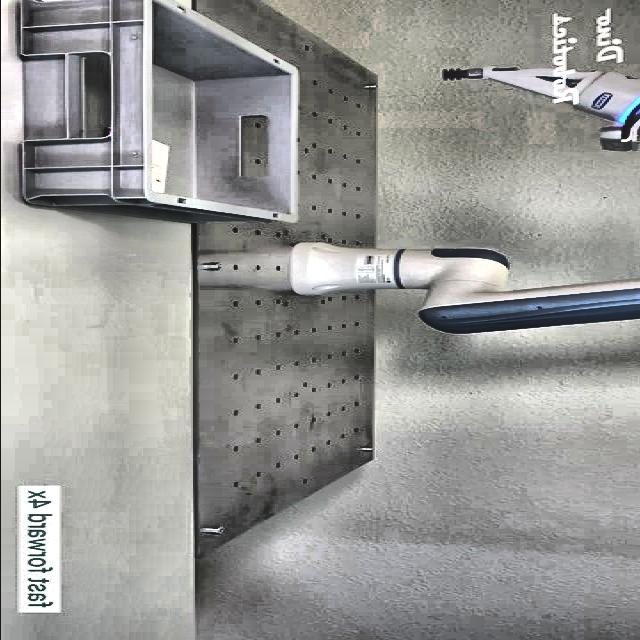robot: (268, 55, 640, 341)
